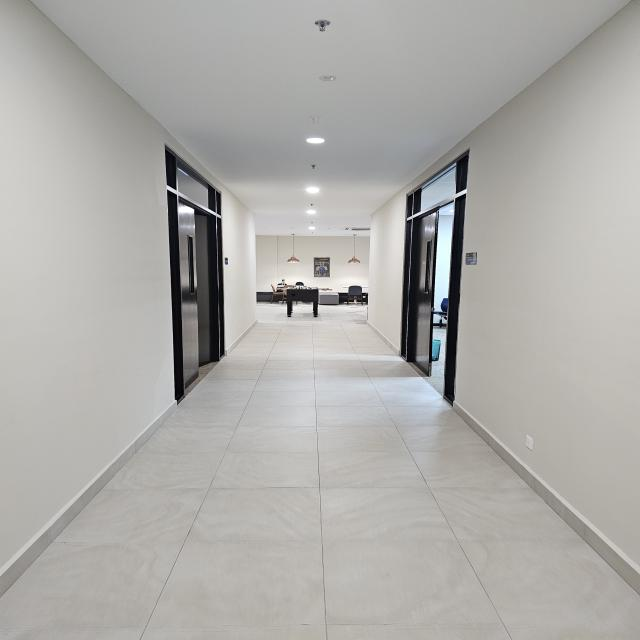door: (168, 193, 232, 386), (407, 194, 464, 398)
footpath: (85, 396, 522, 638)
obstacle: (279, 285, 334, 318)
